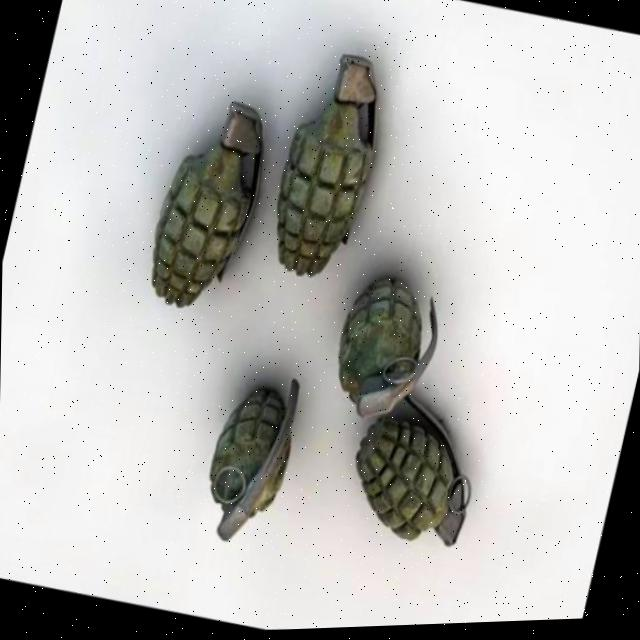grenade: (86, 0, 592, 596)
